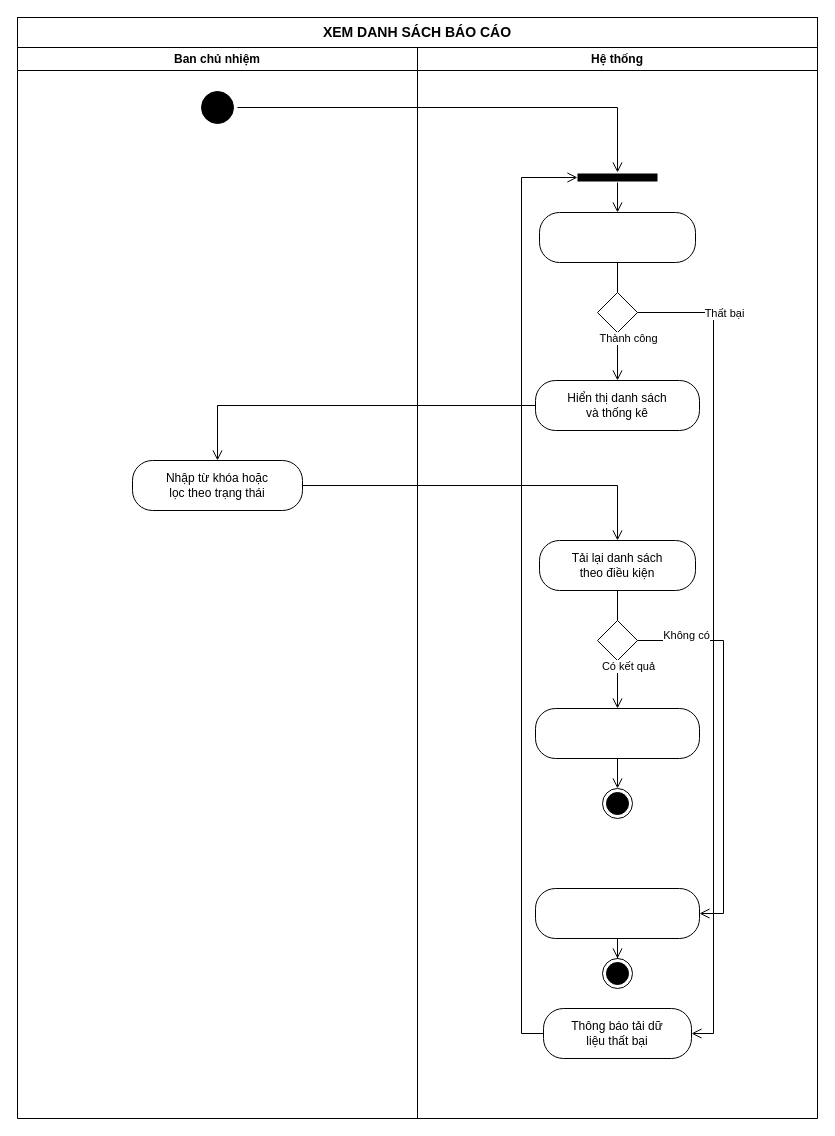
Some shapes in this 835 by 1136 pixel diagram are drawn without their labels. Here are the shapes that lost their labels. From the top down, the box of each, then its label:
(538, 212, 696, 262): Tải thống kê và danh sách báo cáo
(534, 708, 700, 758): Hiển thị danh sách cập nhật
(534, 888, 700, 938): Hiển thị danh sách trống
